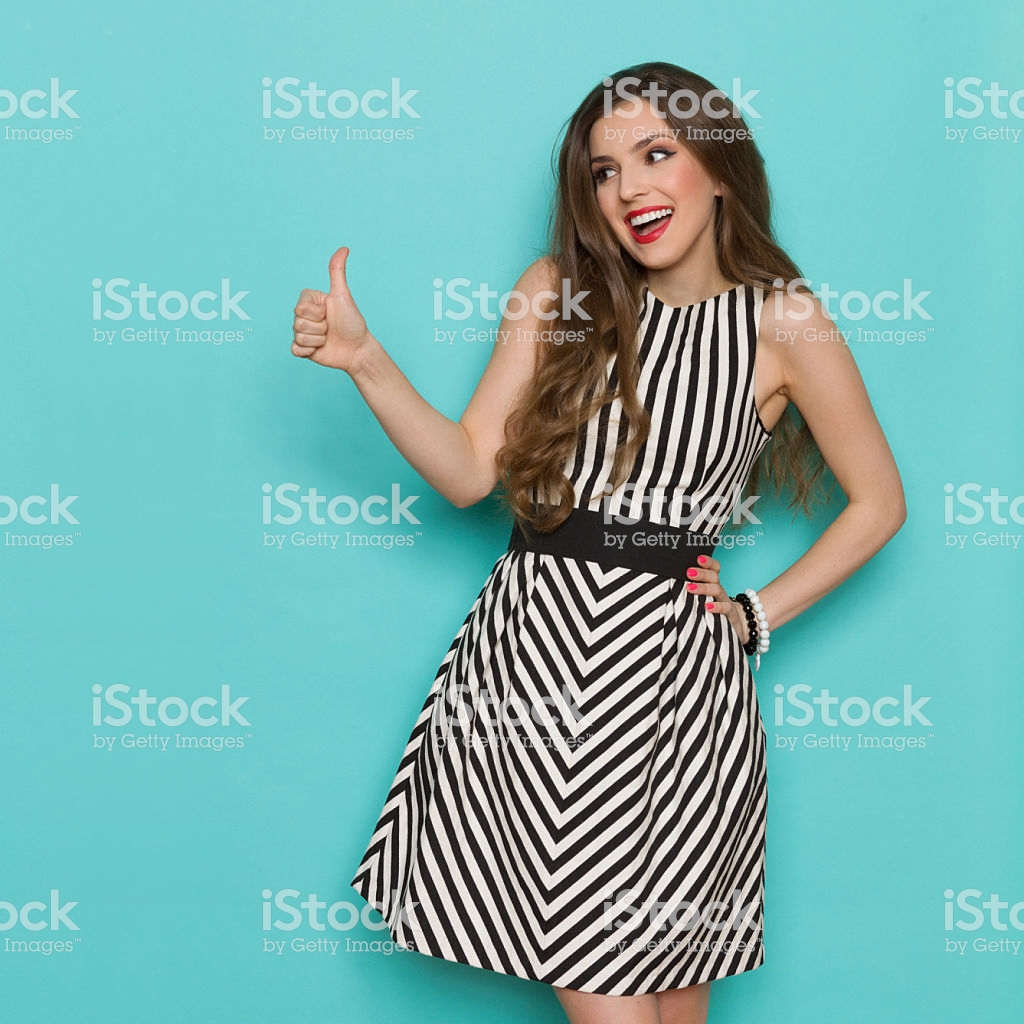thumbsup: (289, 244, 368, 374)
